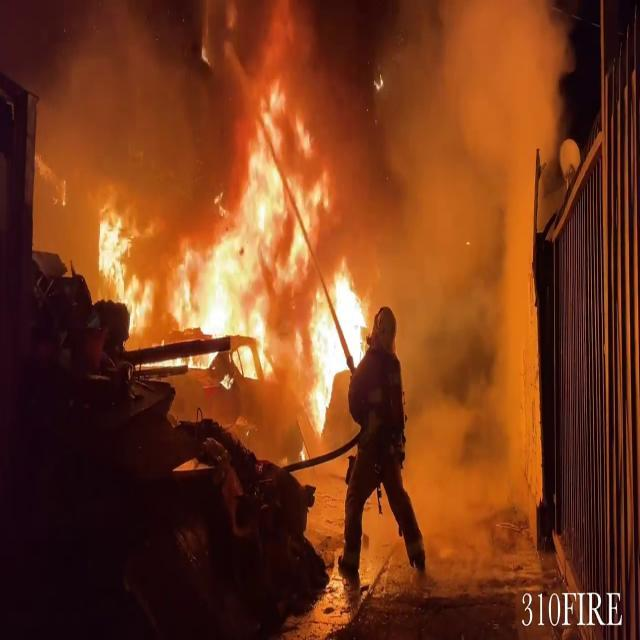Fire: (93, 89, 374, 438)
Smoke: (358, 1, 568, 590), (28, 0, 264, 242)
